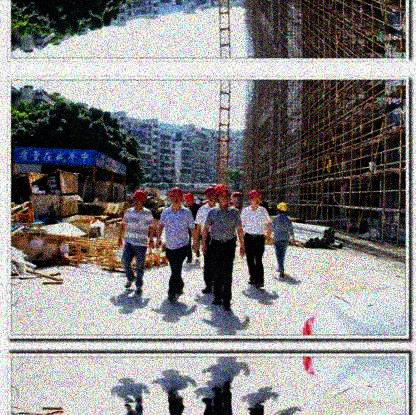helmet: (214, 184, 229, 207), (132, 189, 147, 210), (169, 188, 184, 206), (247, 190, 260, 209), (204, 186, 216, 206), (276, 199, 288, 216), (184, 191, 194, 208)
